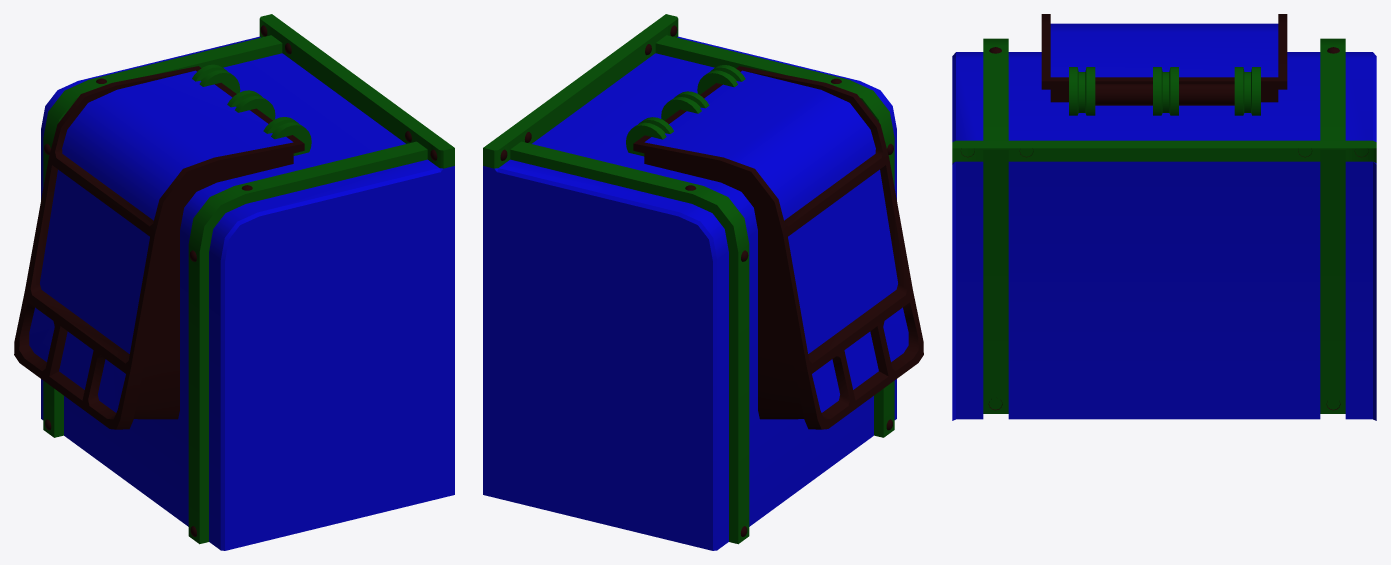
File: SM_SewerTube03.FBX
3 views of the same model, side by side, from view 1: azimuth 30°, elevation 25°; view 2: azimuth 150°, elevation 25°; view 3: azimuth 270°, elevation 25° (orthographic). The views are drawn at different scales.
Parts seen in each view (by area): view 1: Cylinder044; view 2: Cylinder044; view 3: Cylinder044.
Part boxes in pixels (bbox=[...]): Cylinder044: bbox=[14, 14, 454, 550]; Cylinder044: bbox=[483, 14, 923, 550]; Cylinder044: bbox=[952, 14, 1376, 420].
Bounding box in the file's own units: 1095 × 1261 × 1160.
